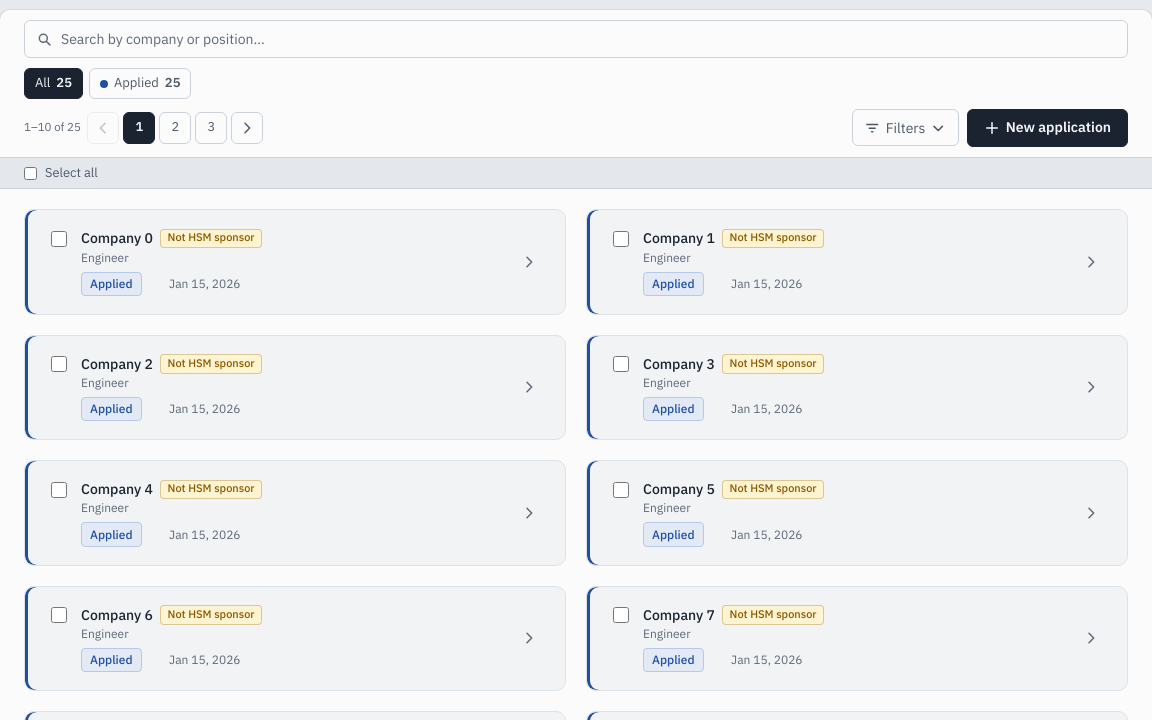
Test: ApplicationsView – fixed page size › shows the remainder on the last page
Click the button "3". click: [211, 128]
box: [195,112,227,144]
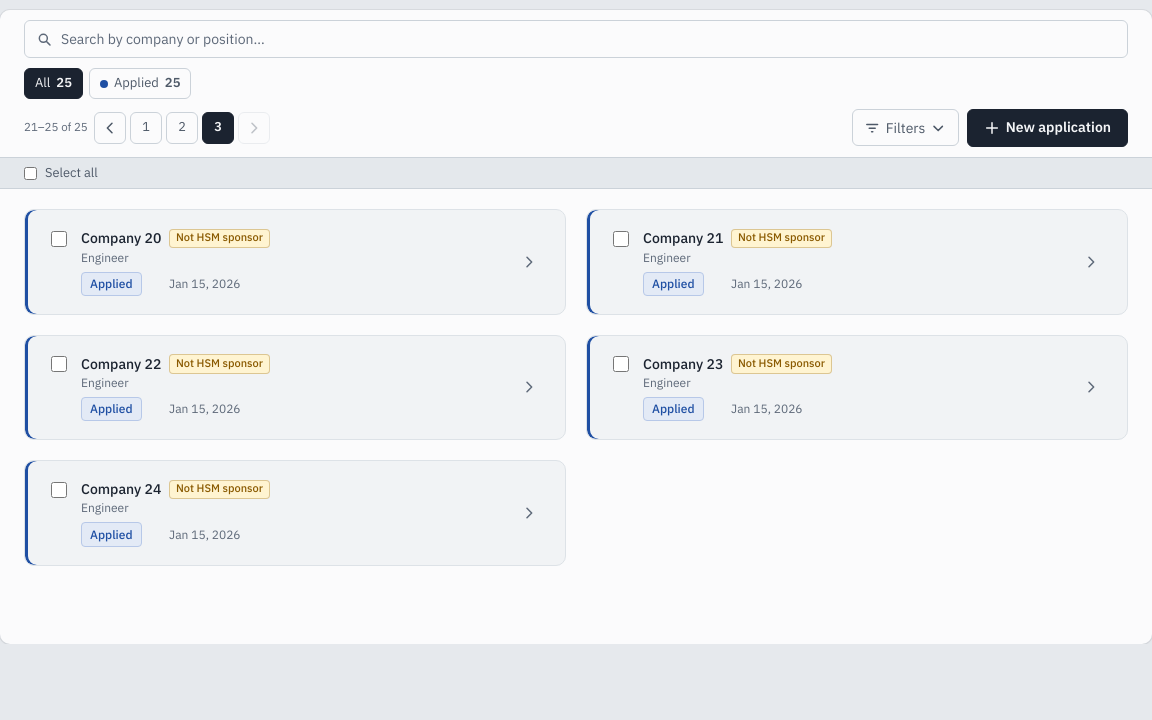
expect the number of list items with class "company-row" is 5: met, box [24,209,566,315]; [586,209,1128,315]; [24,335,566,440]; [586,335,1128,440]; [24,460,566,566]
expect the text "21–25 of 25" is shown: met, box [24,119,88,136]
